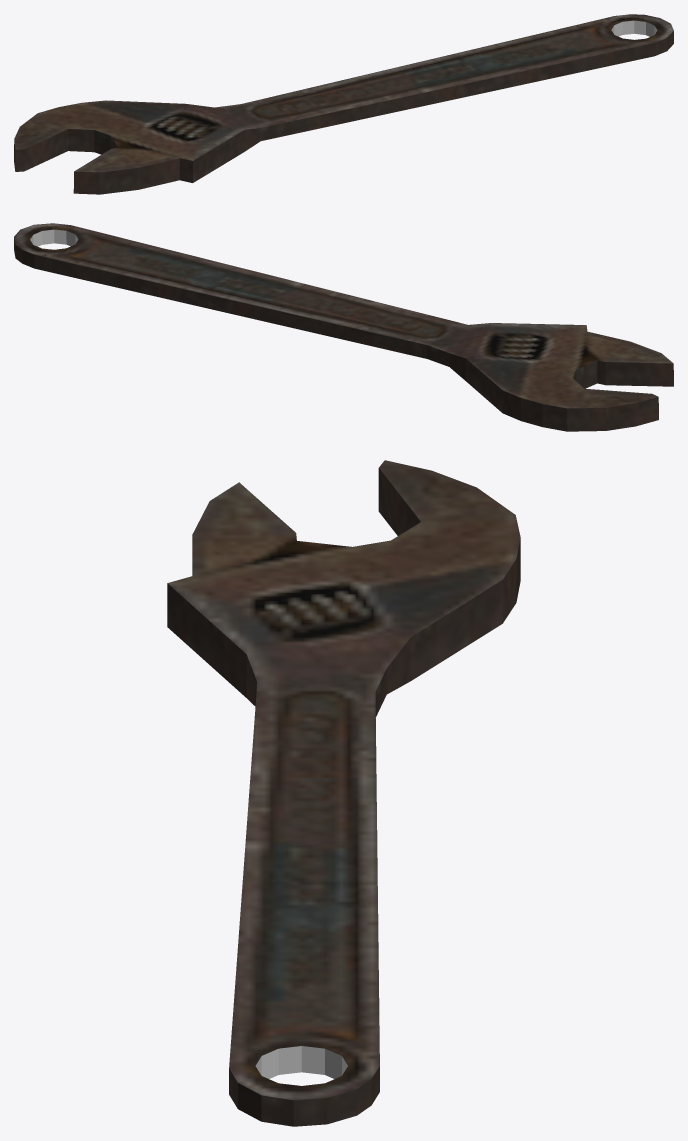
File: wrench_mx_2.obj
The picture shows the model from 3 angles, top to bottom: view 1: azimuth 30°, elevation 25°; view 2: azimuth 150°, elevation 25°; view 3: azimuth 270°, elevation 25°; orthographic projection. The views are drawn at different scales.
Parts seen in each view (by area): view 1: wrench_mx_2; view 2: wrench_mx_2; view 3: wrench_mx_2.
Part boxes in pixels (x1=…): wrench_mx_2: x1=14, y1=14, x2=673, y2=194; wrench_mx_2: x1=14, y1=223, x2=673, y2=431; wrench_mx_2: x1=167, y1=460, x2=520, y2=1126.
Size of the model in its own units: 0.5994 by 0.0223 by 0.1449.
